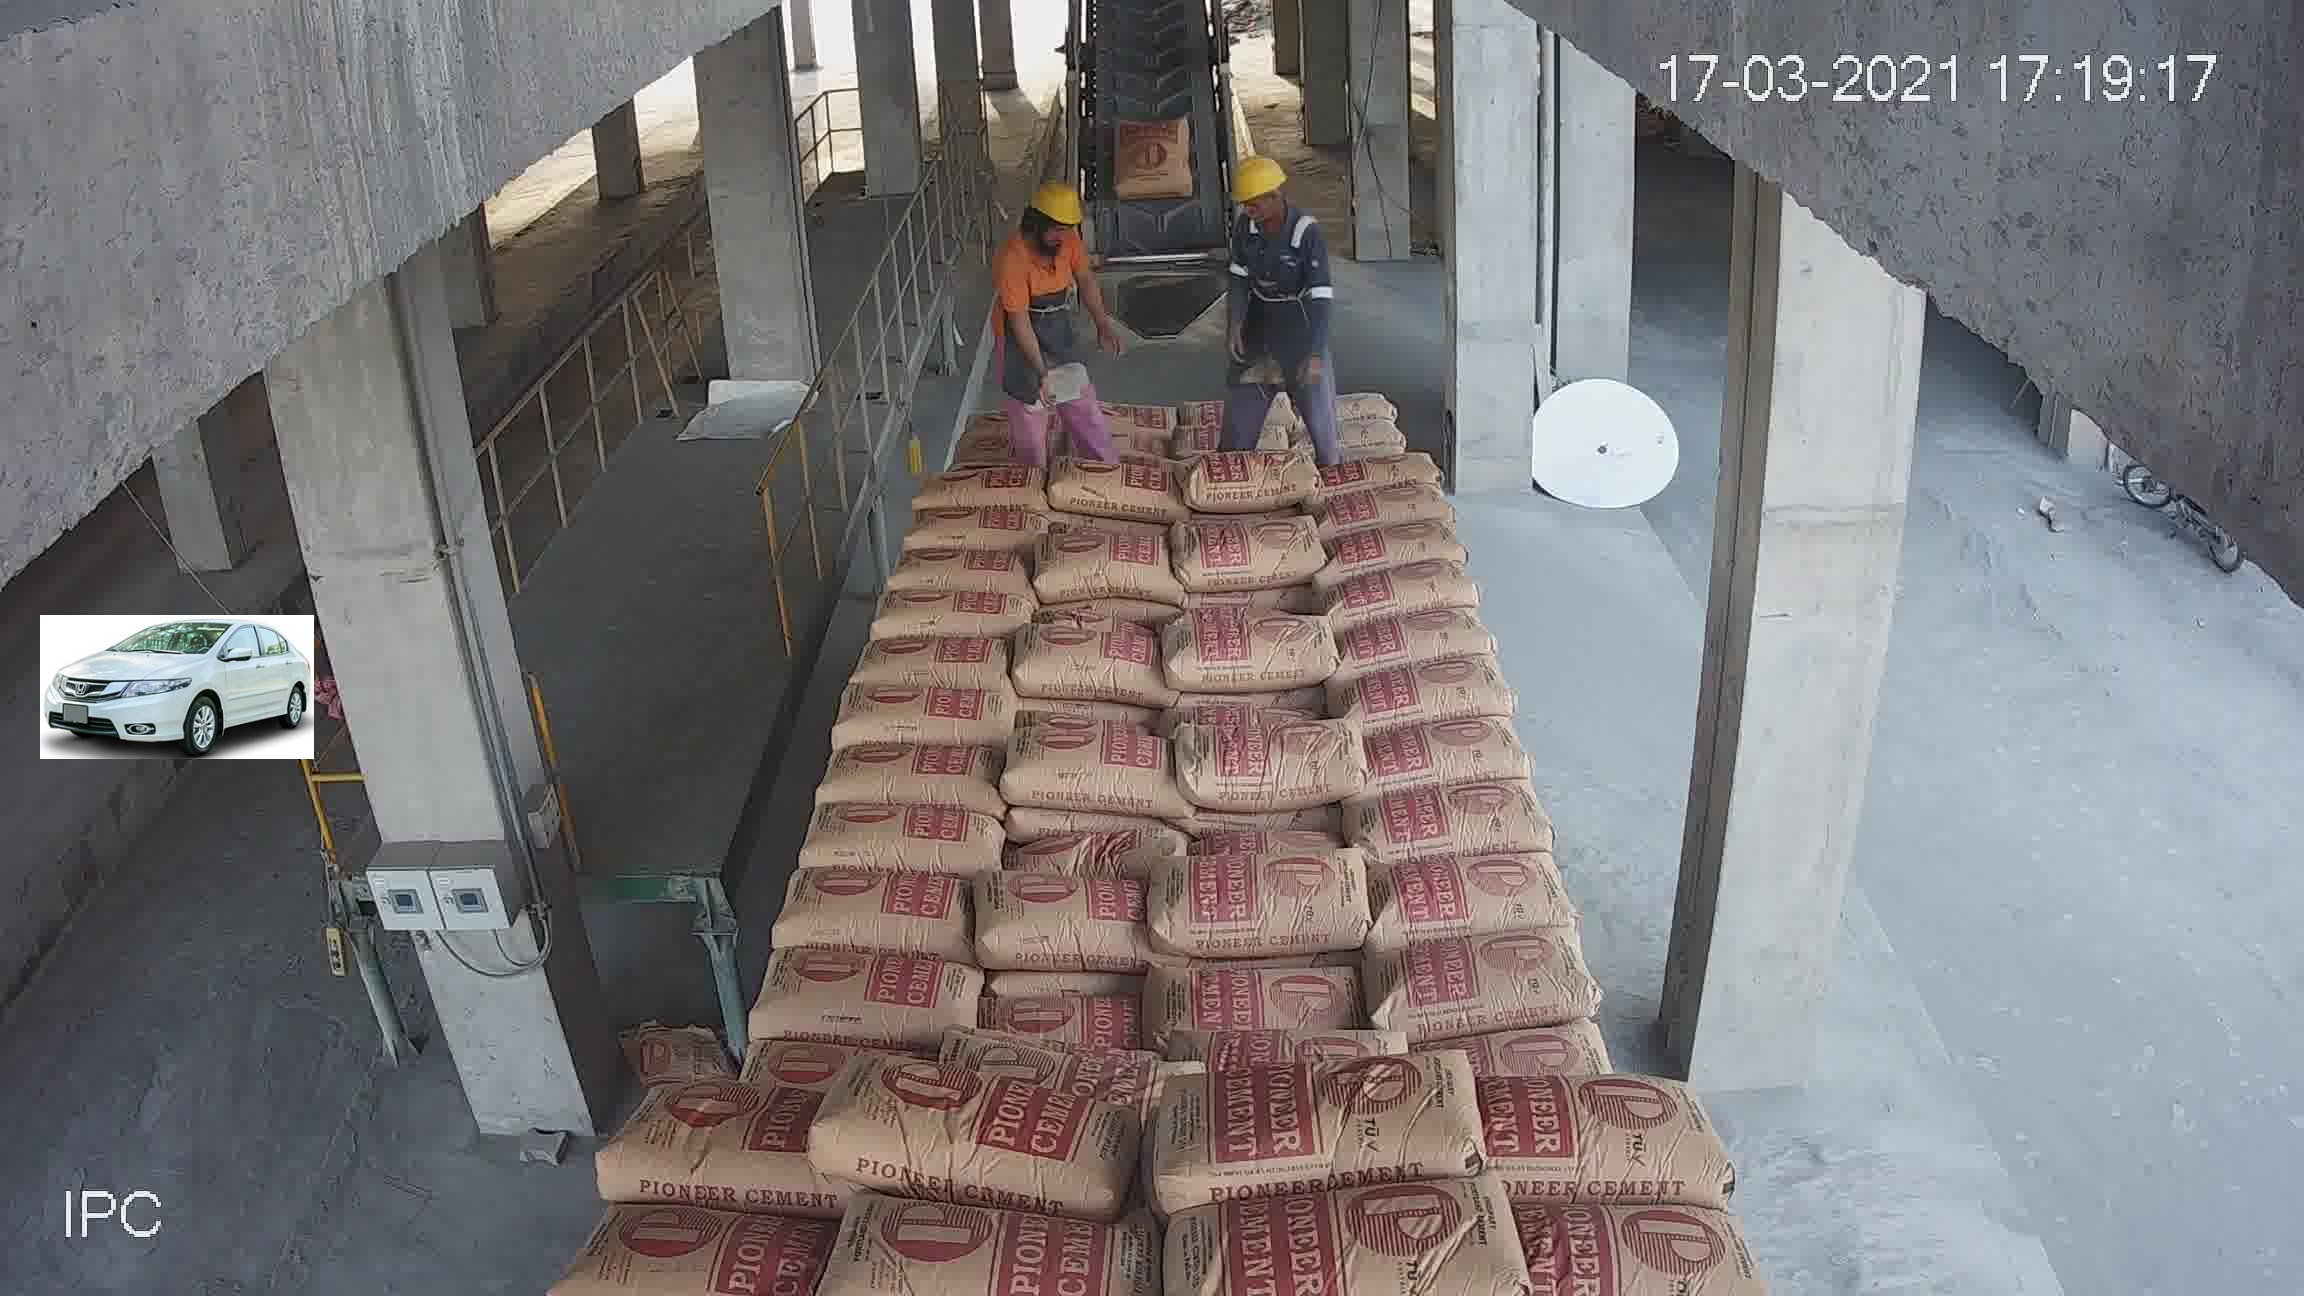bag: (1112, 108, 1198, 196)
bag_h: (802, 1048, 1158, 1214), (1141, 1044, 1457, 1204), (1176, 1169, 1519, 1282), (1476, 1060, 1730, 1195), (584, 1082, 812, 1212), (1165, 828, 1372, 964), (843, 1198, 1166, 1280), (1356, 842, 1578, 961), (1374, 932, 1603, 1046), (540, 1195, 832, 1283), (1516, 1203, 1782, 1294), (753, 951, 1002, 1044), (965, 859, 1152, 968), (1337, 704, 1537, 801), (1184, 703, 1377, 801), (942, 1022, 1226, 1084), (1179, 1002, 1396, 1082), (758, 869, 961, 953), (1361, 772, 1549, 858), (1021, 709, 1188, 802), (1173, 954, 1350, 1041), (817, 677, 1036, 747), (1147, 601, 1340, 679), (1324, 649, 1514, 726), (801, 802, 1021, 869), (1161, 437, 1328, 517), (809, 737, 1010, 804), (1021, 609, 1158, 703), (1033, 508, 1173, 600), (1332, 559, 1492, 635), (881, 527, 1041, 600), (1173, 508, 1332, 581), (1339, 601, 1500, 673), (1041, 441, 1177, 524), (850, 631, 1025, 695), (1022, 802, 1180, 872), (856, 581, 1044, 638), (995, 989, 1139, 1051), (1331, 525, 1478, 578), (902, 505, 1049, 555), (1328, 484, 1457, 541), (1320, 453, 1456, 503), (918, 462, 1051, 506), (1320, 407, 1412, 456), (1313, 377, 1404, 413)
belt: (1059, 24, 1237, 316)
